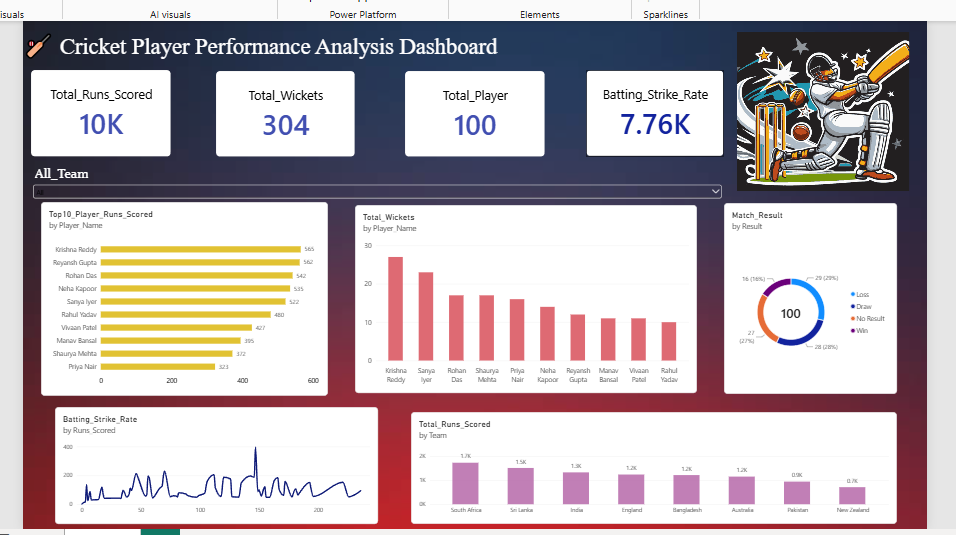

Layout of this report page (visuals, bound fields, positions):
{"tool":"powerbi","page":{"name":"Page 1","canvas":[1920,1080],"ordinal":0},"visuals":[{"type":"cardVisual","fields":{"Data":["Sum(Cricketer Performance.Runs_Scored)"]},"box":[17,104.2,297.6,185],"z":0},{"type":"cardVisual","fields":{"Data":["Sum(Cricketer Performance.Wickets)"]},"box":[410.3,106.3,295.5,182.8],"z":1000},{"type":"cardVisual","fields":{"Data":["CountNonNull(Cricketer Performance.Player_Name)"]},"box":[812.1,106.3,297.6,182.8],"z":2000},{"type":"cardVisual","fields":{"Data":["Sum(Cricketer Performance.Batting_Strike_Rate)"]},"box":[1196.9,104.2,293.4,185],"z":3000},{"type":"textbox","box":[0,0,1490.3,97.8],"z":4000},{"type":"barChart","fields":{"Category":["Cricketer Performance.Player_Name"],"Y":["Sum(Cricketer Performance.Runs_Scored)"]},"box":[38.3,384.8,610.2,412.4],"z":5000},{"type":"columnChart","fields":{"Category":["Cricketer Performance.Player_Name"],"Y":["Sum(Cricketer Performance.Wickets)"]},"box":[705.8,391.2,727.1,399.7],"z":6000},{"type":"donutChart","fields":{"Category":["Cricketer Performance.Result"],"Y":["CountNonNull(Cricketer Performance.Match_ID)"]},"box":[1490.3,386.9,367.8,406.1],"z":7000},{"type":"columnChart","fields":{"Category":["Cricketer Performance.Team"],"Y":["Sum(Cricketer Performance.Runs_Scored)"]},"box":[824.9,831.3,1033.2,238.1],"z":8000},{"type":"lineChart","fields":{"Category":["Cricketer Performance.Runs_Scored"],"Y":["Sum(Cricketer Performance.Batting_Strike_Rate)"]},"box":[68,820.6,686.7,248.7],"z":9000},{"type":"slicer","fields":{"Values":["Cricketer Performance.Team"]},"box":[17,306.1,1473.3,80.8],"z":10000},{"type":"image","box":[1518,23.4,365.7,338],"z":11000}]}

Visuals, with their boxes in screenshot pixels (x1, y1, x2, y2):
cardVisual - Sum(Cricketer Performance.Runs_Scored): box=[28, 67, 168, 154]
cardVisual - Sum(Cricketer Performance.Wickets): box=[213, 68, 353, 154]
cardVisual - CountNonNull(Cricketer Performance.Player_Name): box=[403, 68, 543, 154]
cardVisual - Sum(Cricketer Performance.Batting_Strike_Rate): box=[584, 67, 722, 154]
textbox: box=[20, 17, 722, 64]
barChart - Cricketer Performance.Player_Name x Sum(Cricketer Performance.Runs_Scored): box=[38, 199, 326, 393]
columnChart - Cricketer Performance.Player_Name x Sum(Cricketer Performance.Wickets): box=[353, 202, 695, 390]
donutChart - Cricketer Performance.Result x CountNonNull(Cricketer Performance.Match_ID): box=[722, 200, 896, 391]
columnChart - Cricketer Performance.Team x Sum(Cricketer Performance.Runs_Scored): box=[409, 409, 896, 522]
lineChart - Cricketer Performance.Runs_Scored x Sum(Cricketer Performance.Batting_Strike_Rate): box=[52, 404, 376, 522]
slicer - Cricketer Performance.Team: box=[28, 162, 722, 200]
image: box=[736, 28, 908, 188]
